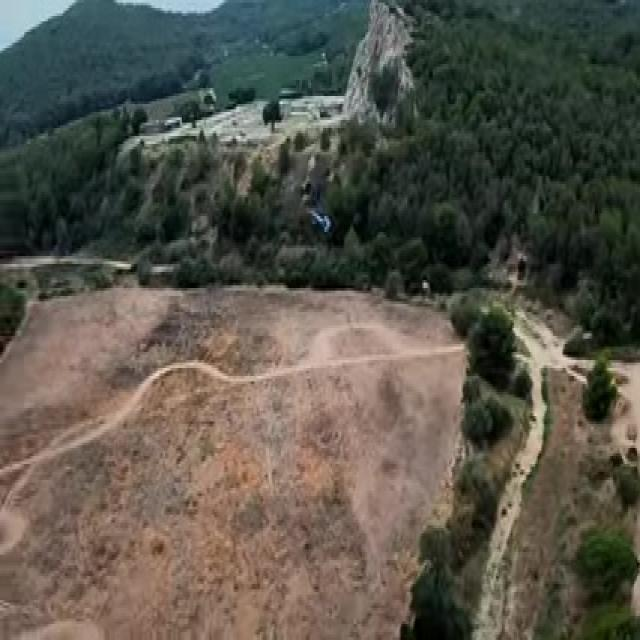iha: (304, 198, 332, 233)
